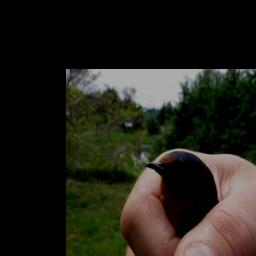Swallow: (144, 148, 221, 238)
